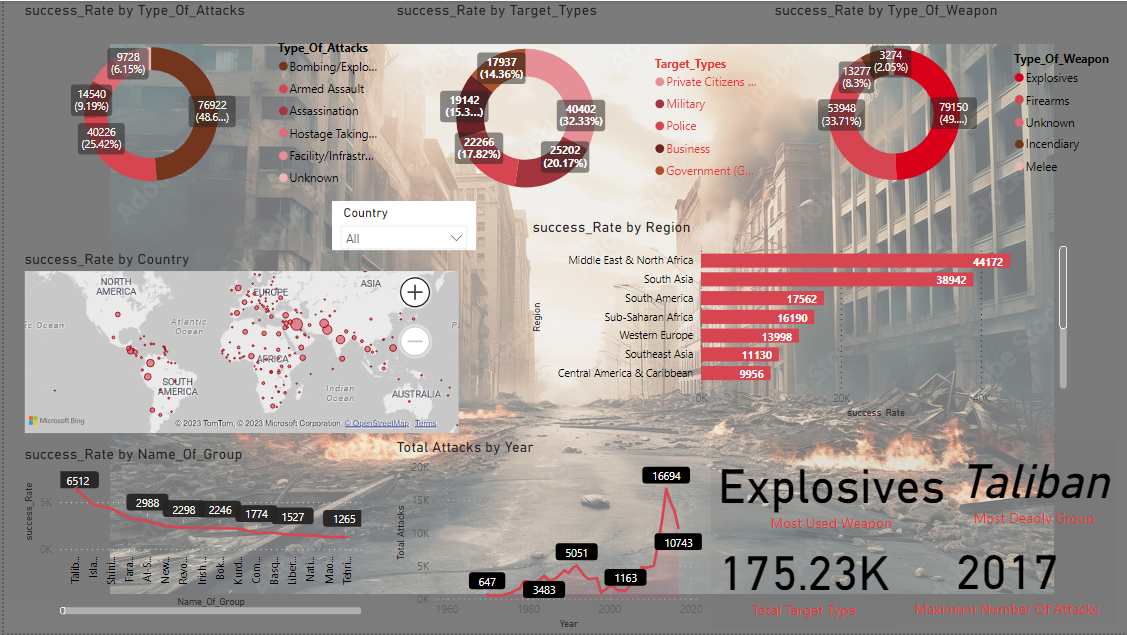

What the dashboard file says about the page in this screenshot:
{"tool":"powerbi","page":{"name":"Terrorism dataset","canvas":[1280,720],"ordinal":0},"visuals":[{"type":"donutChart","fields":{"Category":["Terrorism Dataset.Type_Of_Attacks"],"Y":["Sum(Terrorism Dataset.success_Rate)"]},"box":[18,0,423.7,238.8],"z":0},{"type":"donutChart","fields":{"Category":["Terrorism Dataset.Target_Types"],"Y":["Sum(Terrorism Dataset.success_Rate)"]},"box":[441.6,0,431.4,247.8],"z":1000},{"type":"donutChart","fields":{"Category":["Terrorism Dataset.Type_Of_Weapon"],"Y":["Sum(Terrorism Dataset.success_Rate)"]},"box":[873,0,407,238.8],"z":2000},{"type":"map","fields":{"Category":["Terrorism Dataset.Country"],"Size":["Sum(Terrorism Dataset.success_Rate)"]},"box":[18,283.7,504.6,214.4],"z":3000},{"type":"barChart","fields":{"Category":["Terrorism Dataset.Region"],"Y":["Sum(Terrorism Dataset.success_Rate)"]},"box":[597,247.8,618.8,232.4],"z":4000},{"type":"lineChart","fields":{"Category":["Terrorism Dataset.Name_Of_Group"],"Y":["Sum(Terrorism Dataset.success_Rate)"]},"box":[18,505.8,394.1,197.7],"z":5000},{"type":"areaChart","fields":{"Category":["Terrorism Dataset.Year"],"Y":["CountNonNull(Terrorism Dataset.Year)"]},"box":[441.6,498.1,358.2,222.1],"z":6000},{"type":"slicer","fields":{"Values":["Terrorism Dataset.Country"]},"box":[373.7,227.8,164.1,55.8],"z":7000},{"type":"card","fields":{"Values":["Min(Terrorism Dataset.Name_Of_Group)"]},"box":[1079.7,500.7,187.4,98.9],"z":8000},{"type":"card","fields":{"Values":["CountNonNull(Terrorism Dataset.Target_Types)"]},"box":[805,594.4,211.8,120.7],"z":9000},{"type":"card","fields":{"Values":["Max(Terrorism Dataset.Year)"]},"box":[1018.1,599.6,247.8,109.1],"z":10000},{"type":"card","fields":{"Values":["Min(Terrorism Dataset.Type_Of_Weapon)"]},"box":[805,505.8,274.7,100.1],"z":11000}]}

Visuals, with their boxes in screenshot pixels (x1, y1, x2, y2), scaled from the page's 1280x720 canvas onto the 1127x635 screenshot:
donutChart - Terrorism Dataset.Type_Of_Attacks x Sum(Terrorism Dataset.success_Rate): (16,0,389,211)
donutChart - Terrorism Dataset.Target_Types x Sum(Terrorism Dataset.success_Rate): (389,0,769,219)
donutChart - Terrorism Dataset.Type_Of_Weapon x Sum(Terrorism Dataset.success_Rate): (769,0,1126,211)
map - Terrorism Dataset.Country x Sum(Terrorism Dataset.success_Rate): (16,250,460,439)
barChart - Terrorism Dataset.Region x Sum(Terrorism Dataset.success_Rate): (526,219,1070,424)
lineChart - Terrorism Dataset.Name_Of_Group x Sum(Terrorism Dataset.success_Rate): (16,446,363,620)
areaChart - Terrorism Dataset.Year x CountNonNull(Terrorism Dataset.Year): (389,439,704,634)
slicer - Terrorism Dataset.Country: (329,201,474,250)
card - Min(Terrorism Dataset.Name_Of_Group): (951,442,1116,529)
card - CountNonNull(Terrorism Dataset.Target_Types): (709,524,895,631)
card - Max(Terrorism Dataset.Year): (896,529,1115,625)
card - Min(Terrorism Dataset.Type_Of_Weapon): (709,446,951,534)
